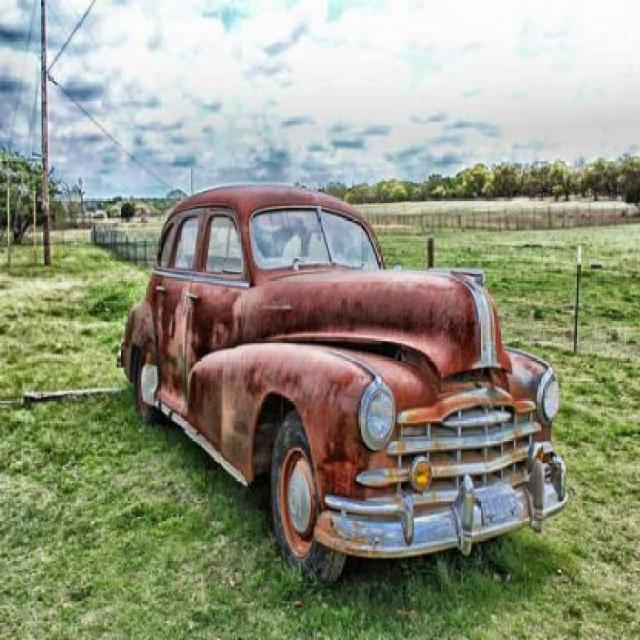corrosion: (115, 179, 570, 593)
